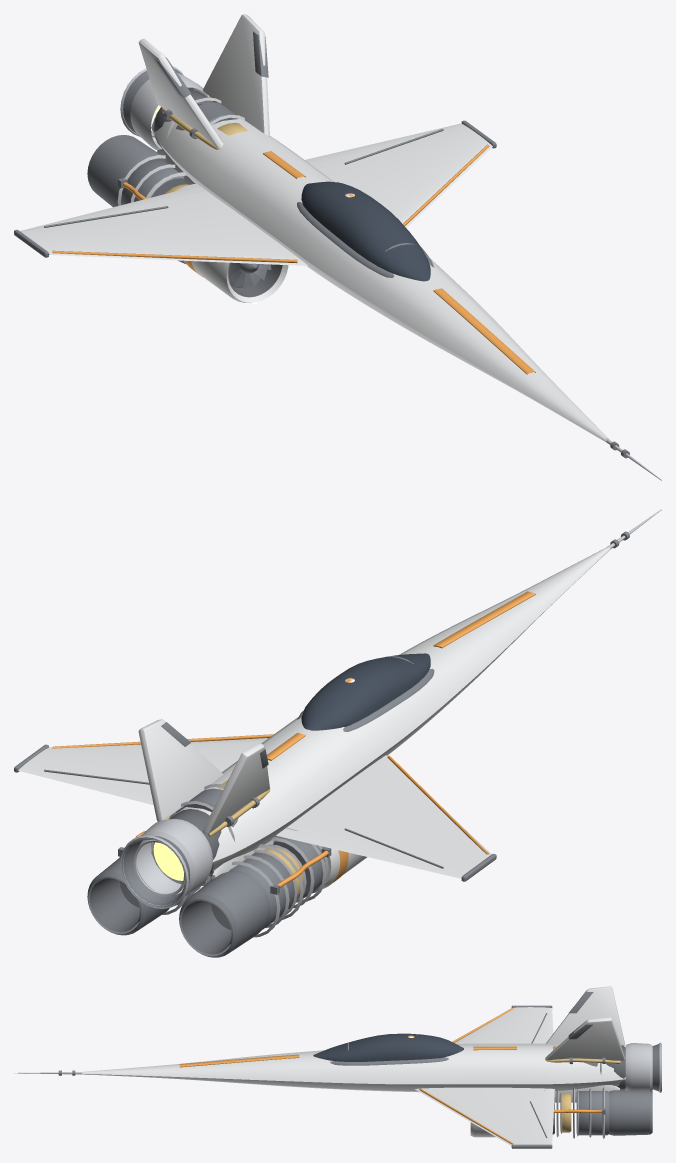
The model's file is lance.glb.
3 renders of one model, top to bottom at view 1: azimuth 30°, elevation 25°; view 2: azimuth 150°, elevation 25°; view 3: azimuth 270°, elevation 25°, orthographic. The views are drawn at different scales.
Parts seen in each view (by area): view 1: fuselage, wing.001, wing, canopy, tail, enozzle, tail.001, main_nozzle, estage.002, ecan, top_stripe, wing_edge.001 (+3 smaller); view 2: fuselage, wing.001, wing, canopy, enozzle, tail, eliner, main_nozzle, tail.001, estage.002, main_lip, estage (+5 smaller); view 3: fuselage, wing, canopy, wing.001, tail, enozzle, tail.001, main_nozzle, estage.002, canopy_sill, top_stripe, estage.001 (+5 smaller).
Boxes of the visible parts, x1,y1,x2,y2 form: fuselage: (151, 112, 609, 441); wing.001: (20, 185, 307, 265); wing: (305, 123, 492, 227); canopy: (301, 181, 430, 281); tail: (203, 14, 269, 136); enozzle: (87, 135, 160, 207); tail.001: (138, 38, 223, 148); main_nozzle: (130, 73, 208, 150); estage.002: (121, 158, 184, 204); ecan: (184, 260, 288, 302); top_stripe: (433, 288, 535, 374); wing_edge.001: (52, 250, 297, 263); fuselage: (151, 547, 610, 874); wing.001: (276, 755, 491, 878); wing: (18, 738, 268, 805); canopy: (301, 653, 430, 730); enozzle: (87, 850, 269, 957); tail: (138, 719, 223, 821); eliner: (89, 876, 232, 954); main_nozzle: (134, 819, 212, 896); tail.001: (203, 743, 269, 833); estage.002: (151, 843, 294, 929); main_lip: (121, 836, 190, 907); estage: (273, 836, 325, 900); fuselage: (82, 1043, 625, 1092); wing: (415, 1087, 554, 1145); canopy: (313, 1033, 463, 1061); wing.001: (454, 1007, 553, 1043); tail: (545, 1017, 624, 1060); enozzle: (609, 1088, 652, 1135); tail.001: (546, 986, 624, 1045); main_nozzle: (625, 1043, 652, 1091); estage.002: (576, 1091, 609, 1135); canopy_sill: (330, 1057, 448, 1065); top_stripe: (179, 1054, 299, 1067); estage.001: (560, 1093, 571, 1132).
Size of the model in its own units: 6.12 by 2.44 by 11.92.
